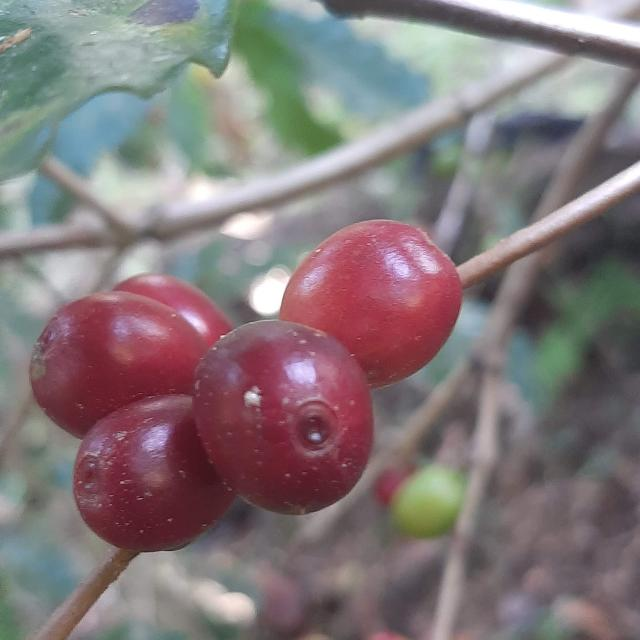Ripe: (193, 321, 373, 515), (279, 220, 463, 388), (29, 291, 207, 438), (73, 395, 235, 553), (113, 273, 233, 347)
